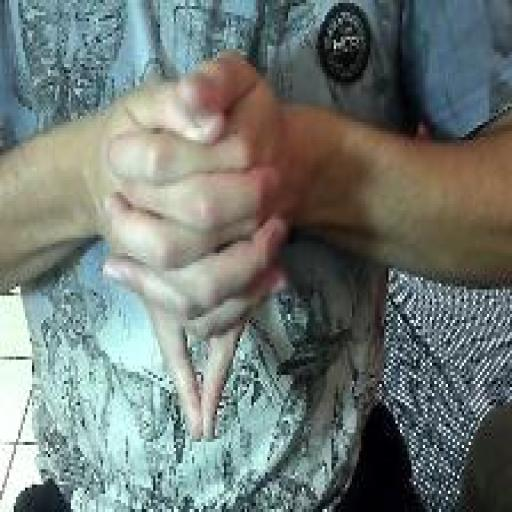Tatsu -dragon-: (98, 46, 297, 457)
